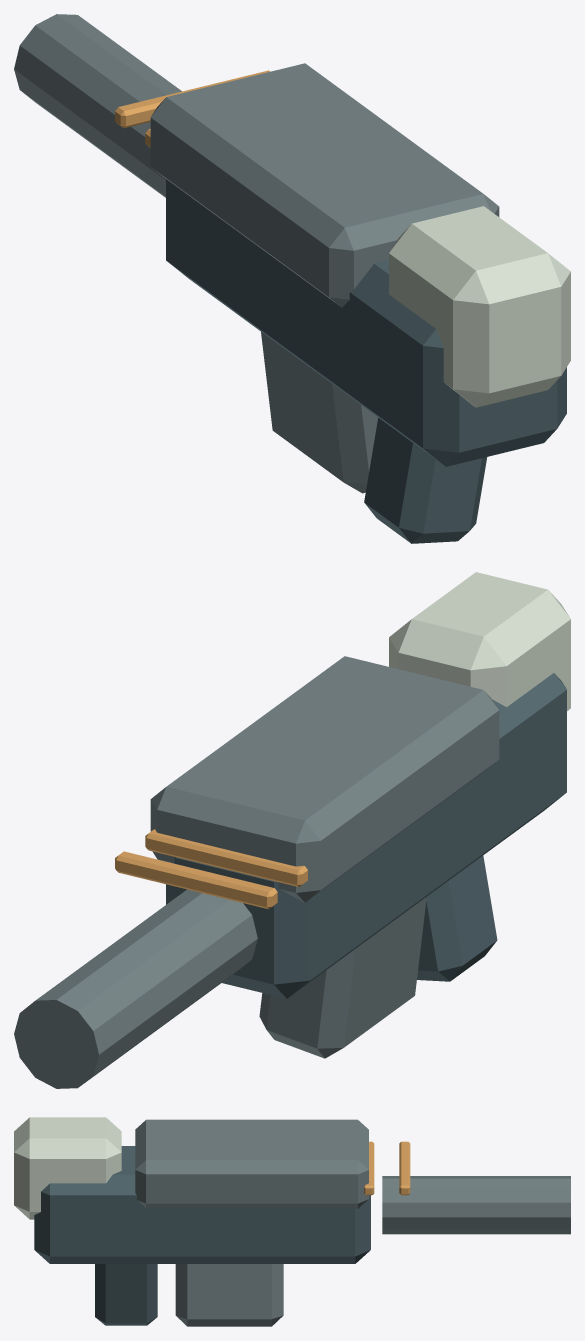
The model's file is autocannon.glb.
The picture shows the model from 3 angles, top to bottom: view 1: azimuth 30°, elevation 25°; view 2: azimuth 150°, elevation 25°; view 3: azimuth 270°, elevation 25°; orthographic projection. The views are drawn at different scales.
Parts seen in each view (by area): view 1: weapon; view 2: weapon; view 3: weapon.
Part boxes in pixels (box(x1,y1,x2,y2)): weapon: box(14, 14, 570, 543); weapon: box(14, 572, 570, 1088); weapon: box(14, 1117, 570, 1326).
Bounding box in the file's own units: 0.26 × 0.4796 × 1.24.
